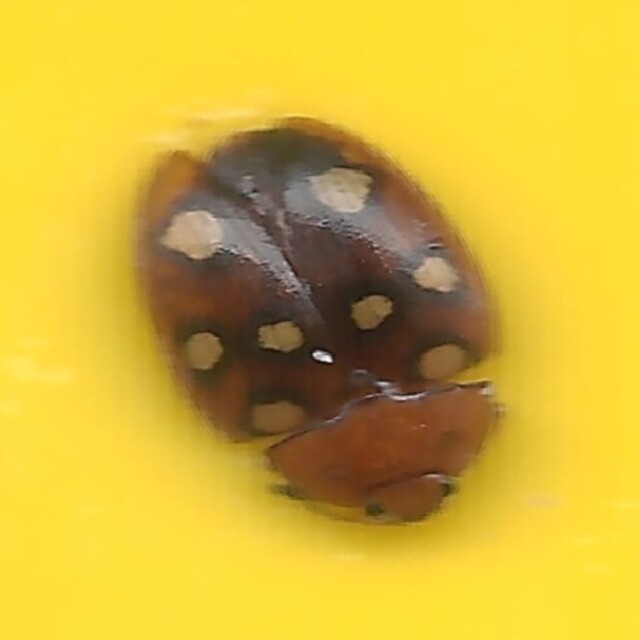Coleoptera: (135, 113, 505, 527)
